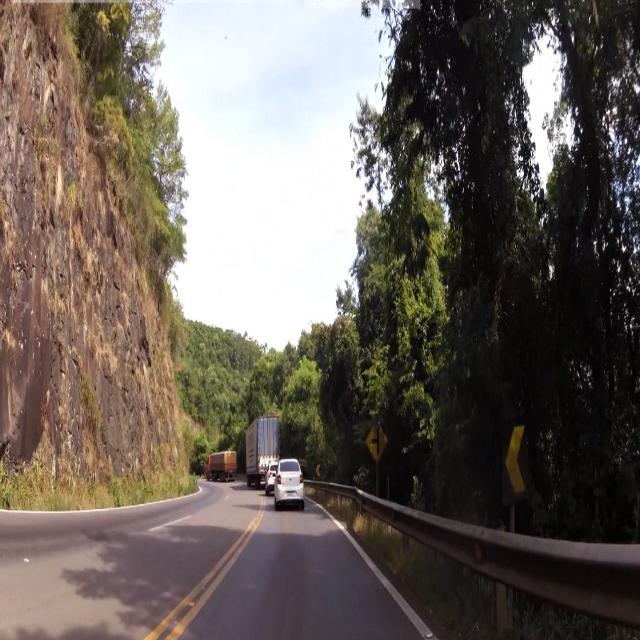A-7a: (367, 418, 388, 465)
Del: (500, 414, 532, 508)
